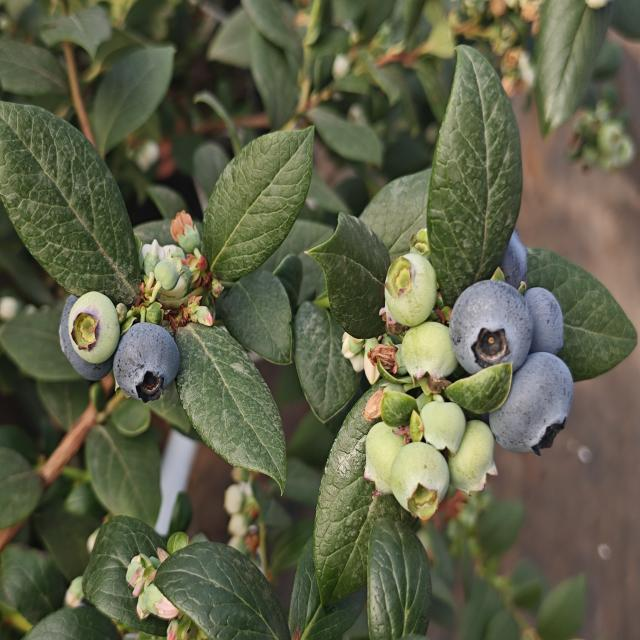ripe: (447, 277, 534, 378), (493, 352, 573, 452), (111, 319, 182, 406), (58, 292, 113, 384), (527, 286, 565, 356), (502, 217, 530, 288)
